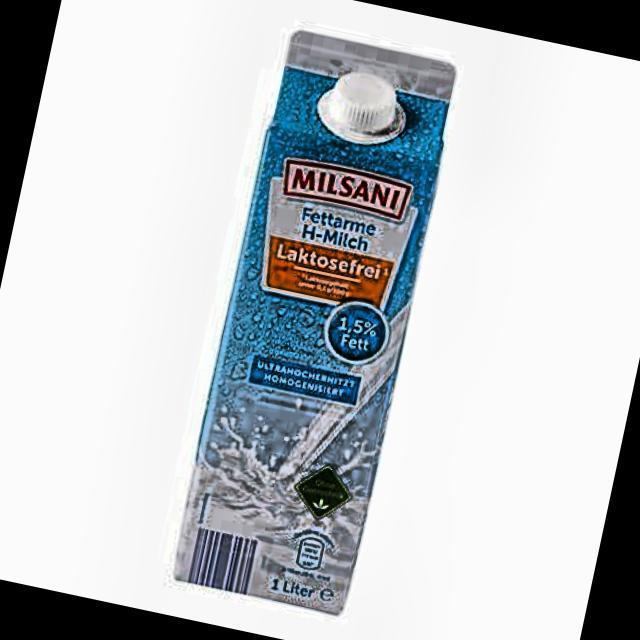cardboard: (166, 25, 462, 618)
